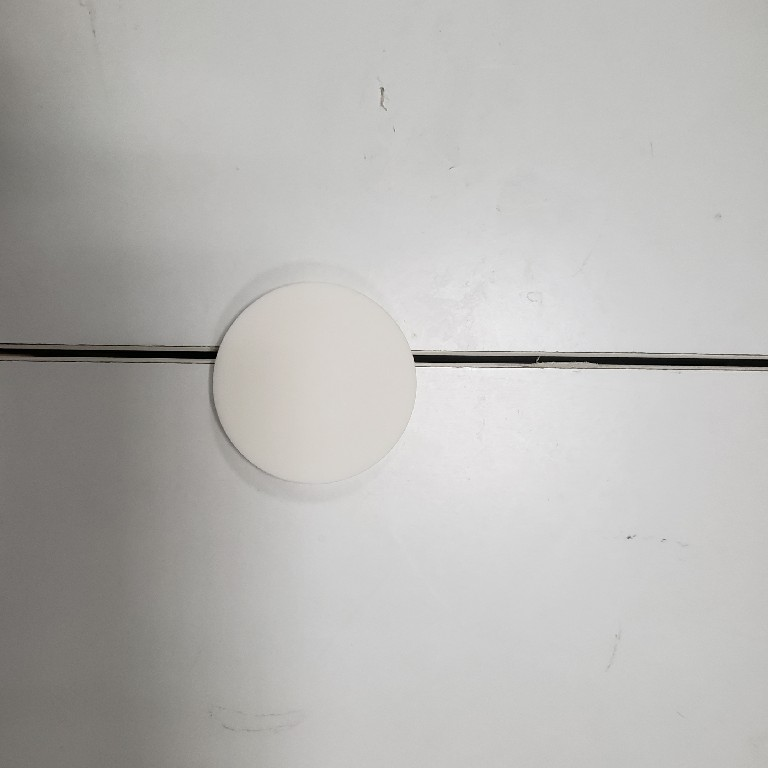ceramics: (205, 278, 420, 490)
